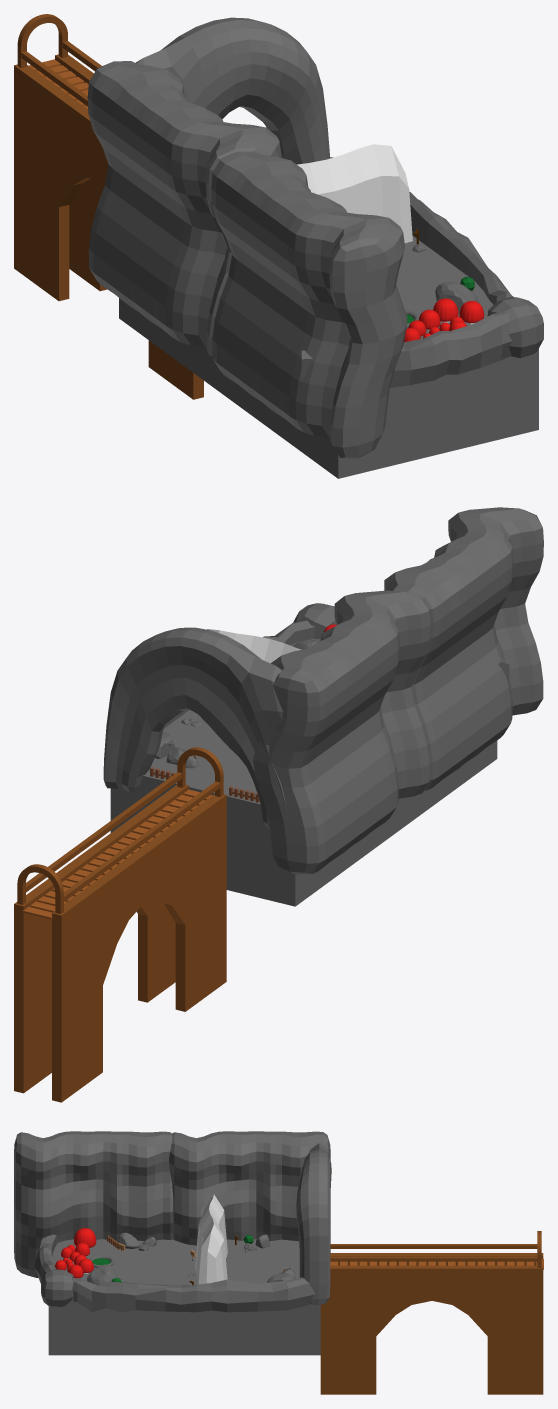
File: karta.fbx
The picture shows the model from 3 angles, top to bottom: view 1: azimuth 30°, elevation 25°; view 2: azimuth 150°, elevation 25°; view 3: azimuth 270°, elevation 25°; orthographic projection. The views are drawn at different scales.
Parts seen in each view (by area): view 1: Cube.020, Cube.006, Plane, Cube.059, Cube.017, Cube.064, Cube.047, Cube.053, Cube.060, Cube.048, Cube.056, Cube.057 (+2 smaller); view 2: Cube.006, Cube.020, Cube.059, Cube.017, Plane, Cube.060, Cube.056, Cube.061, Cube.064, Cube.057, Cube.048, Cube.058 (+1 smaller); view 3: Cube.060, Plane, Cube.020, Cube.006, Cube.053, Cube.017, Cube.064, Cube.056, Cube.059, Cube.048, Cube.061, Cube.047 (+2 smaller).
Part boxes in pixels (x1,y1,x2,y2): Cube.020: (211,151,407,458); Cube.006: (87,61,281,367); Plane: (119,236,538,478); Cube.059: (14,64,203,399); Cube.017: (135,17,329,164); Cube.064: (297,144,412,243); Cube.047: (301,311,511,387); Cube.053: (328,157,513,304); Cube.060: (55,54,106,291); Cube.048: (487,296,543,358); Cube.056: (21,41,101,106); Cube.057: (17,14,67,68); Cube.006: (253,590,430,874); Cube.020: (384,507,543,790); Cube.059: (52,794,226,1102); Cube.017: (103,627,286,829); Plane: (110,639,497,906); Cube.060: (14,785,188,1093); Cube.056: (26,772,220,901); Cube.061: (22,789,212,919); Cube.064: (192,629,301,723); Cube.057: (17,864,63,913); Cube.048: (293,603,336,639); Cube.058: (177,747,223,796); Cube.060: (320,1265,543,1394); Plane: (48,1239,320,1355); Cube.020: (14,1131,173,1277); Cube.006: (169,1131,330,1252); Cube.053: (73,1277,315,1312); Cube.017: (296,1143,331,1305); Cube.064: (195,1192,227,1284); Cube.056: (330,1244,537,1261); Cube.059: (330,1253,543,1265); Cube.048: (41,1269,73,1306); Cube.061: (330,1259,543,1269); Cube.047: (34,1234,57,1284).
Bounding box in the file's own units: 1053 × 1416 × 2951.
